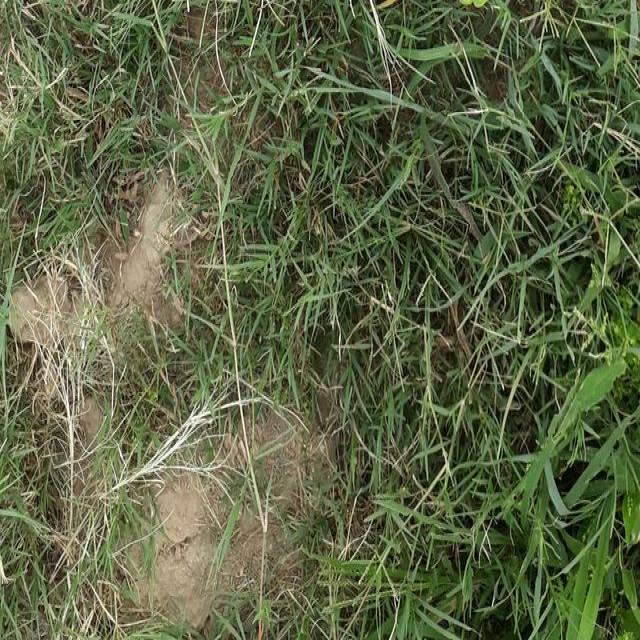weed: (290, 14, 508, 432), (474, 34, 640, 387), (490, 330, 640, 640)
